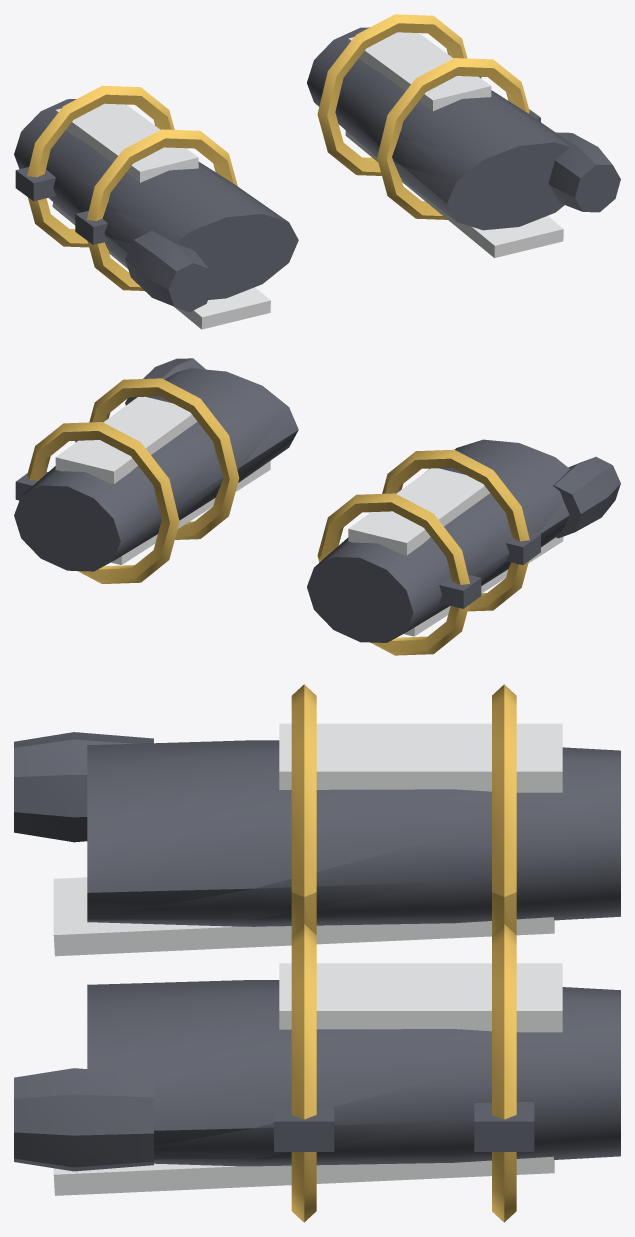
File: snowboard-gear-and-freestyle-riders-wrist-guards-d9ced2b8__27155.glb
The picture shows the model from 3 angles, top to bottom: view 1: azimuth 30°, elevation 25°; view 2: azimuth 150°, elevation 25°; view 3: azimuth 270°, elevation 25°; orthographic projection. The views are drawn at different scales.
Parts seen in each view (by area): view 1: wrist-guards; view 2: wrist-guards; view 3: wrist-guards.
Boxes of the visible parts, bbox=[...] form: wrist-guards: bbox=[14, 14, 620, 329]; wrist-guards: bbox=[14, 358, 620, 655]; wrist-guards: bbox=[14, 684, 620, 1222].
Bounding box in the file's own units: 0.2687 × 0.09 × 0.182.
